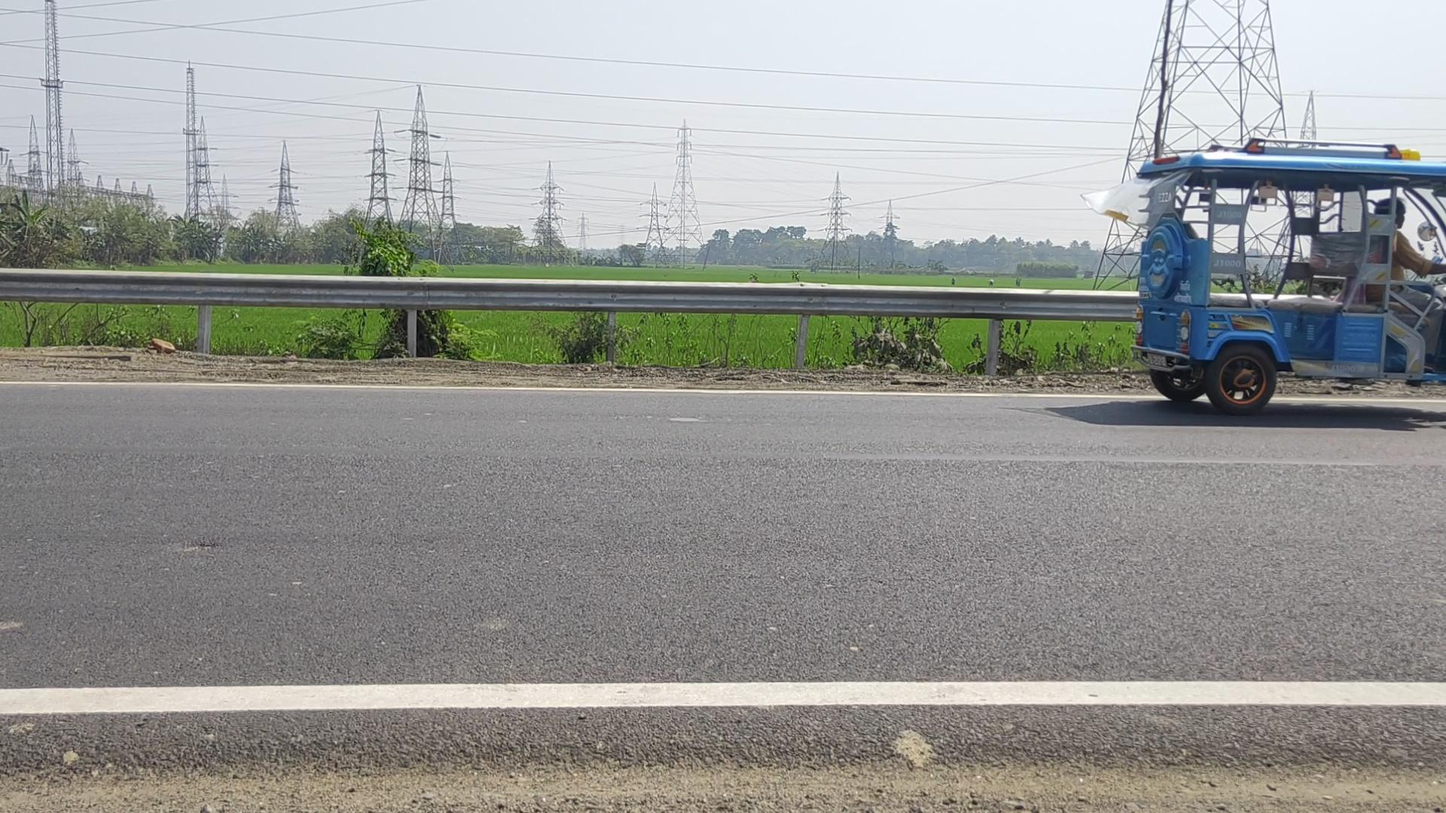Auto: (1131, 144, 1446, 422)
